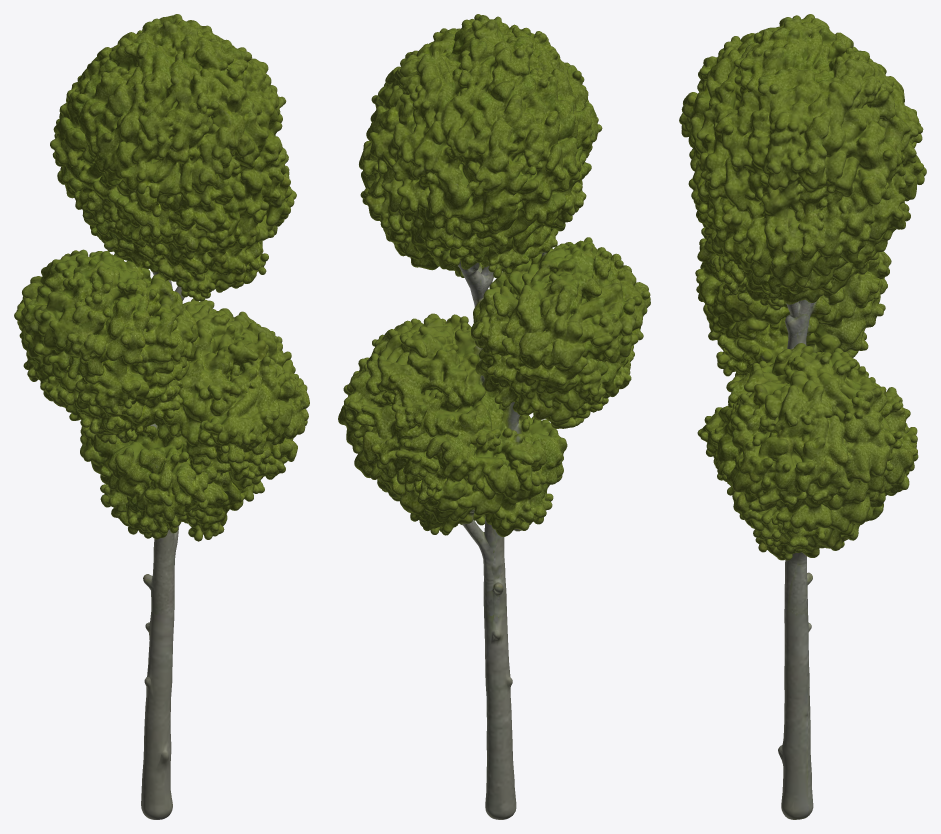
Rendered from haya_joven.glb.
3 renders of one model, left to right at view 1: azimuth 30°, elevation 25°; view 2: azimuth 150°, elevation 25°; view 3: azimuth 270°, elevation 25°, orthographic.
Visible parts, largest first — view 1: aligerado; view 2: aligerado; view 3: aligerado.
Boxes of the visible parts, box(x1,y1,x2,y2) form: aligerado: box(14, 14, 309, 819); aligerado: box(338, 14, 650, 819); aligerado: box(679, 14, 926, 819).
Bounding box in the file's own units: 1.44 × 4 × 1.12.
1 material, 1 textured.
